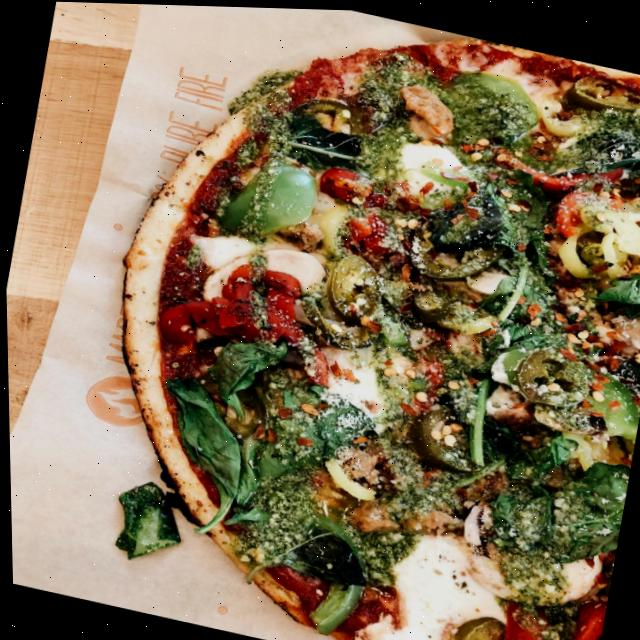basil: (135, 370, 258, 543), (239, 499, 376, 612), (461, 181, 551, 328), (537, 444, 631, 570), (201, 324, 291, 427), (541, 116, 640, 198), (478, 483, 553, 552), (583, 245, 640, 321), (226, 432, 265, 513)
pizza: (53, 1, 640, 640)
tomatoes: (552, 182, 625, 242), (343, 209, 394, 254), (318, 164, 370, 206)
